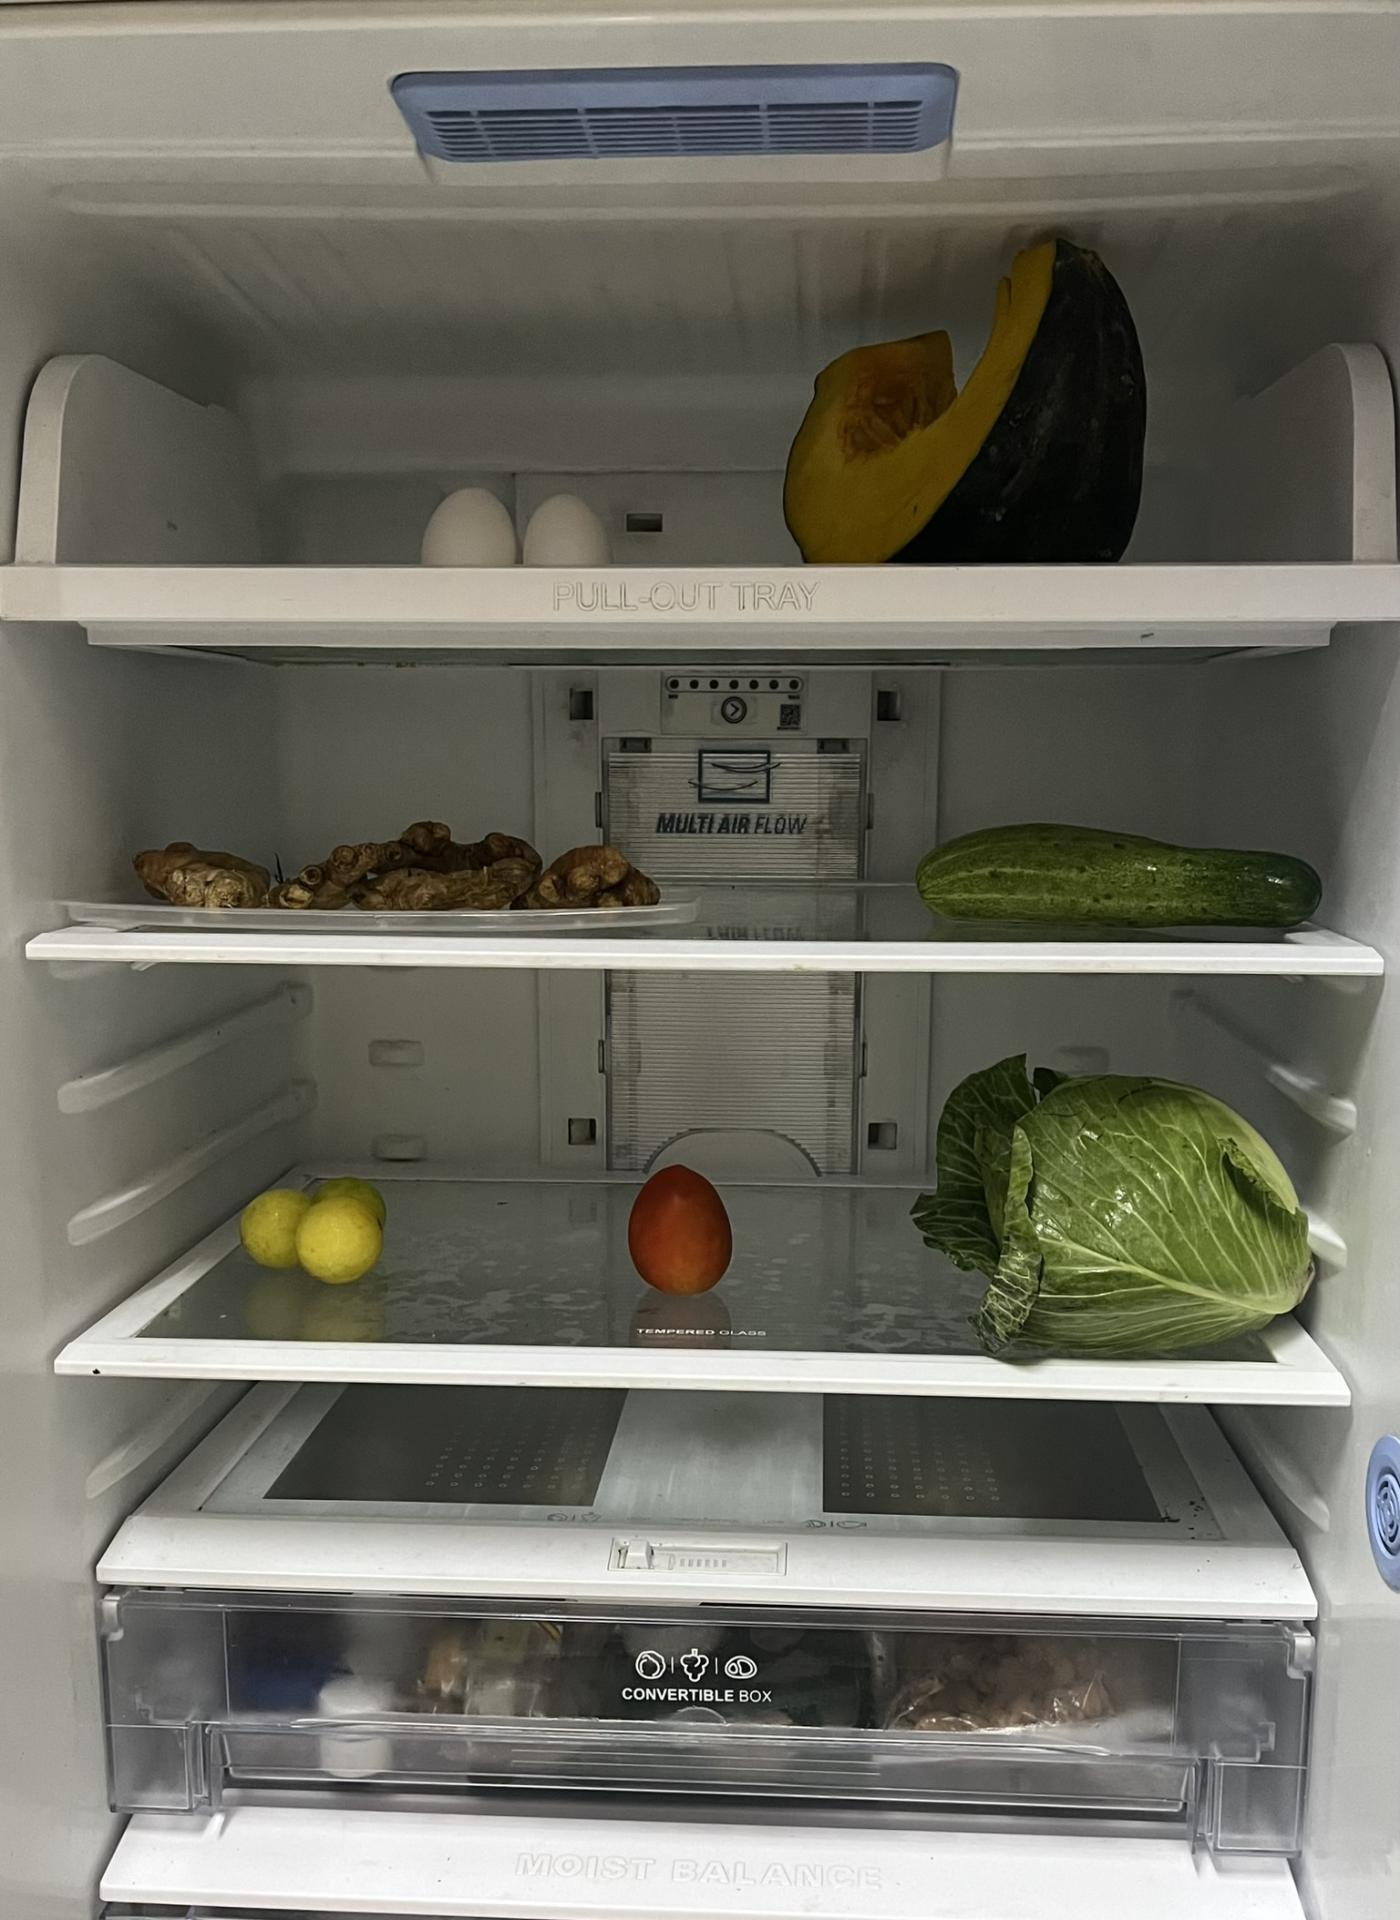cabbage: (908, 1054, 1321, 1346)
cucumber: (917, 815, 1333, 932)
egg: (416, 490, 623, 565)
ginger: (131, 824, 656, 923)
lemon: (240, 1160, 407, 1285)
pumpkin: (777, 234, 1157, 562)
tomato: (626, 1169, 744, 1300)
